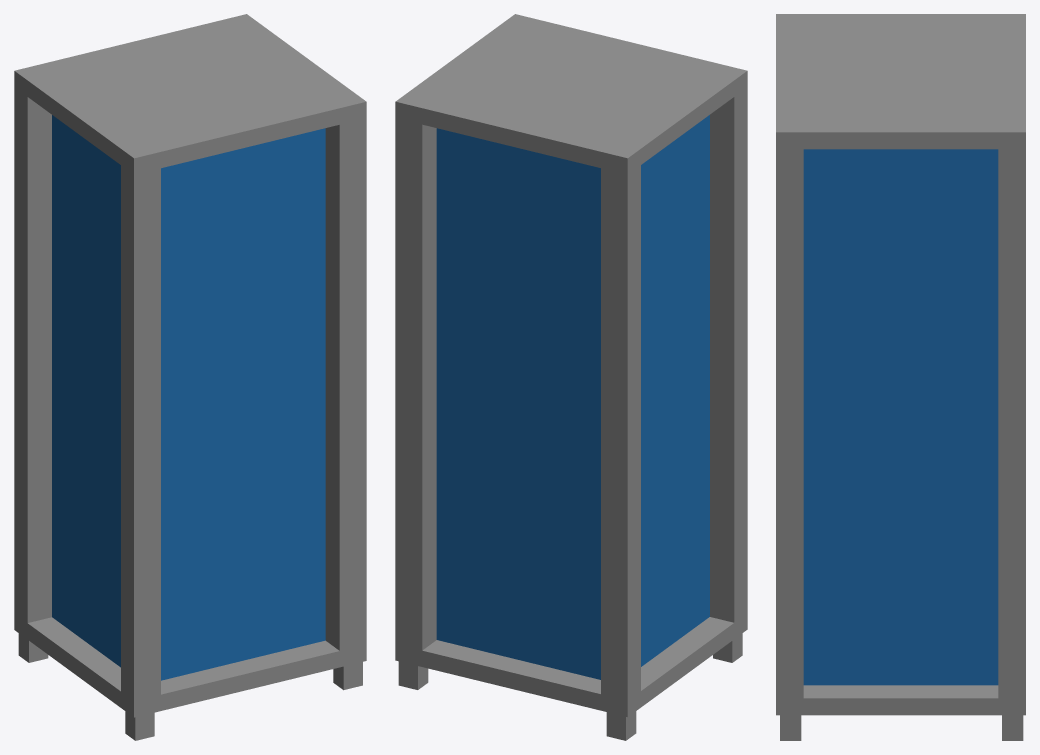
File: advertsign_2 1.fbx
3 renders of one model, left to right at view 1: azimuth 30°, elevation 25°; view 2: azimuth 150°, elevation 25°; view 3: azimuth 270°, elevation 25°, orthographic. The views are drawn at different scales.
Visible parts, largest first — view 1: advertsign_2; view 2: advertsign_2; view 3: advertsign_2.
Boxes of the visible parts, x1,y1,x2,y2 form: advertsign_2: (14, 14, 366, 740); advertsign_2: (395, 14, 747, 740); advertsign_2: (776, 14, 1025, 740).
Size of the model in its own units: 0.6055 by 1.45 by 0.5404.
